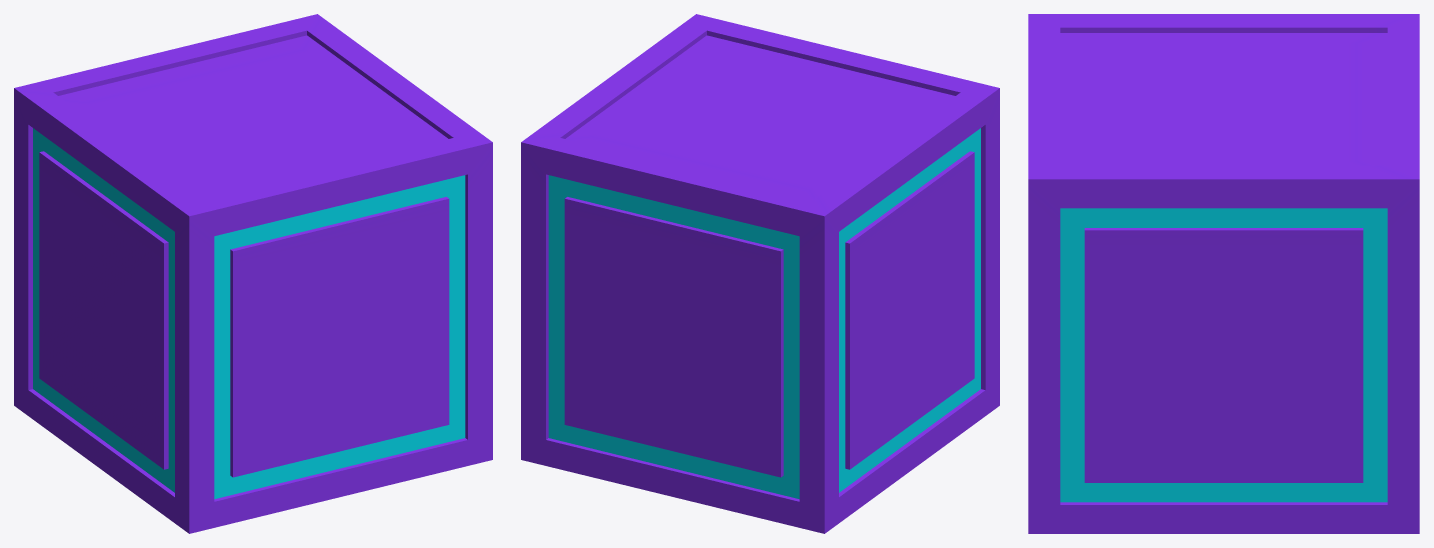
File: POL0210027.fbx
The picture shows the model from 3 angles, left to right: view 1: azimuth 30°, elevation 25°; view 2: azimuth 150°, elevation 25°; view 3: azimuth 270°, elevation 25°; orthographic projection. The views are drawn at different scales.
Visible parts, largest first — view 1: smPOL0210027; view 2: smPOL0210027; view 3: smPOL0210027.
Part boxes in pixels (x1,y1,x2,y2): smPOL0210027: (14, 14, 492, 533); smPOL0210027: (521, 14, 999, 533); smPOL0210027: (1028, 14, 1419, 533).
Size of the model in its own units: 161 by 161 by 161.
1 material, 1 textured.
